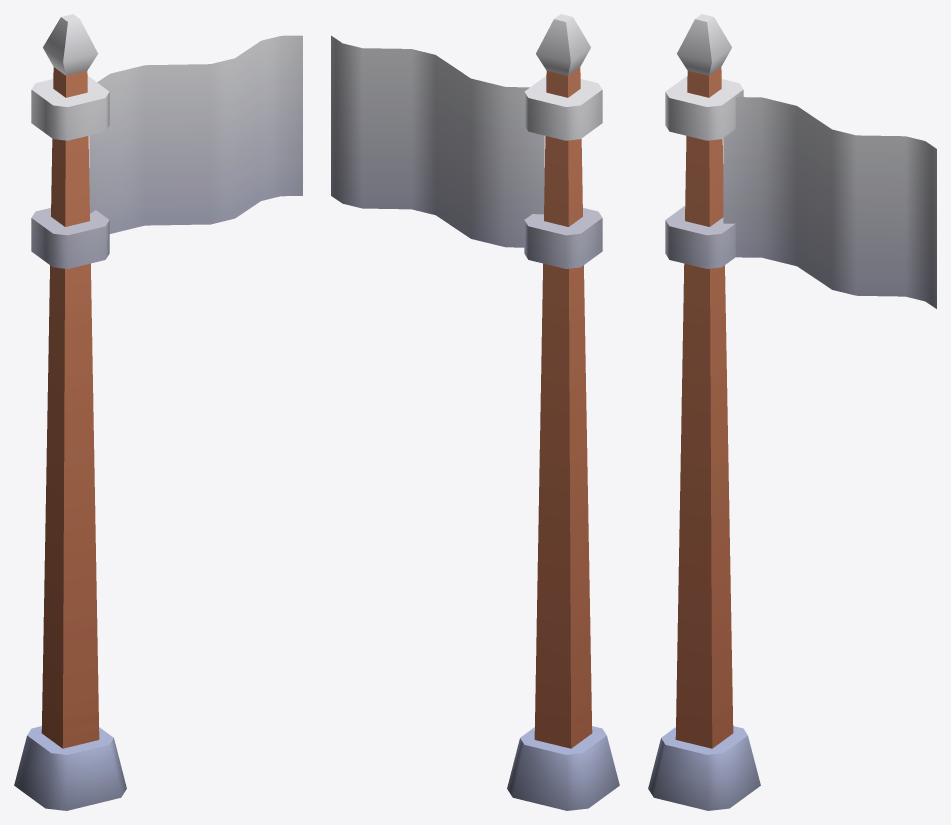
Rendered from kenney-pirate-flag-high.glb.
The picture shows the model from 3 angles, left to right: view 1: azimuth 30°, elevation 25°; view 2: azimuth 150°, elevation 25°; view 3: azimuth 330°, elevation 25°; orthographic projection.
Visible parts, largest first — view 1: flag-high; view 2: flag-high; view 3: flag-high.
Boxes of the visible parts, <box> form: flag-high: <box>14,14,302,810</box>; flag-high: <box>331,14,619,810</box>; flag-high: <box>648,14,936,810</box>.
Size of the model in its own units: 1.34 by 3.6 by 0.3987.
1 material, 1 textured.
